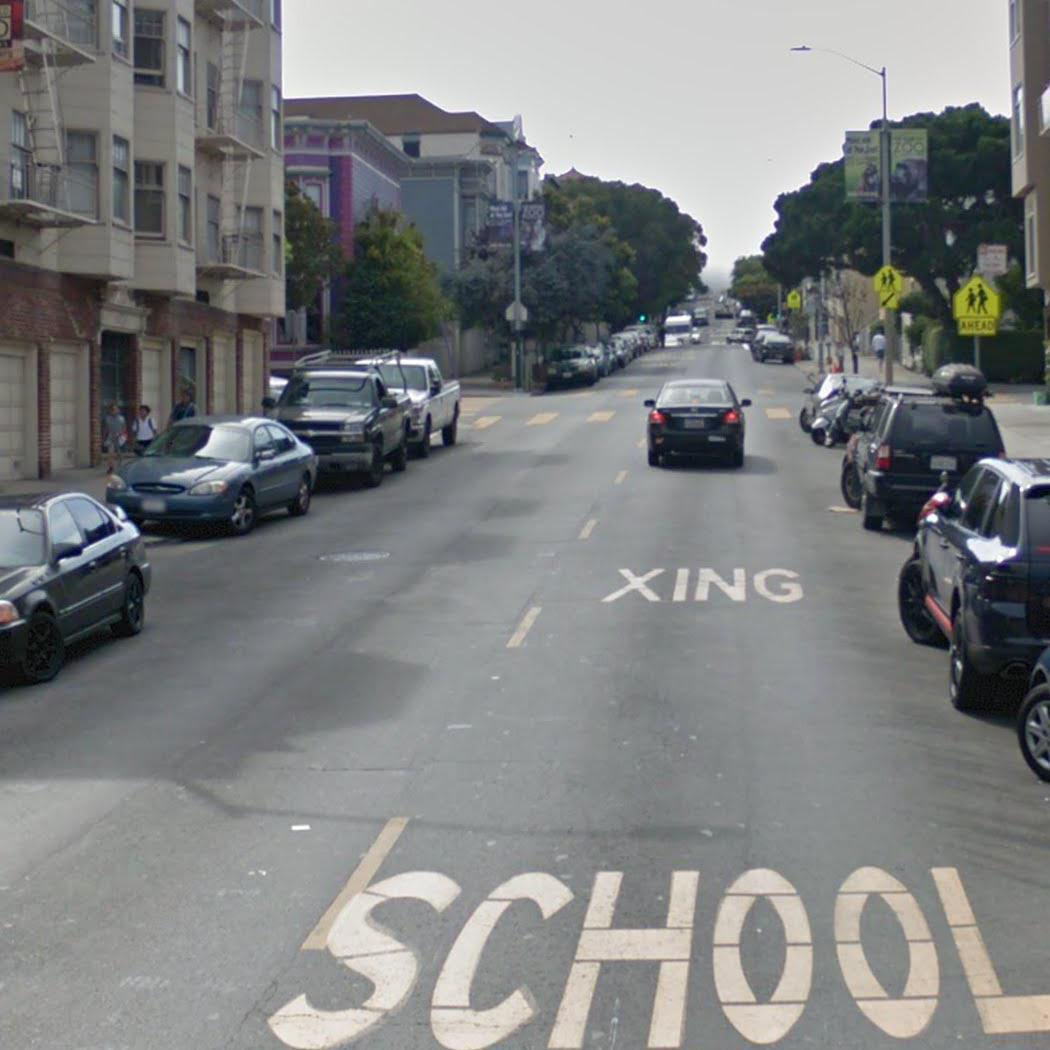No Parking: (975, 241, 1010, 277)
